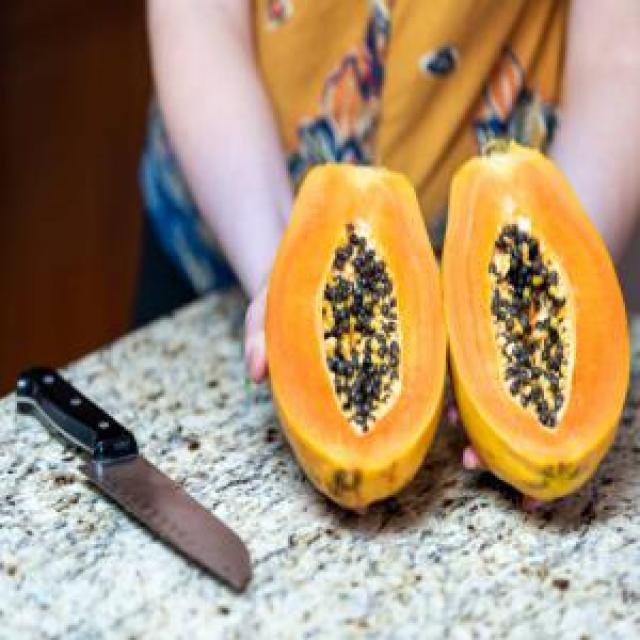knife: (6, 363, 254, 597)
